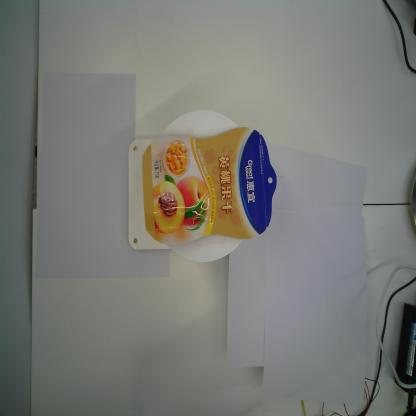Dried Fruit: (142, 126, 278, 246)
